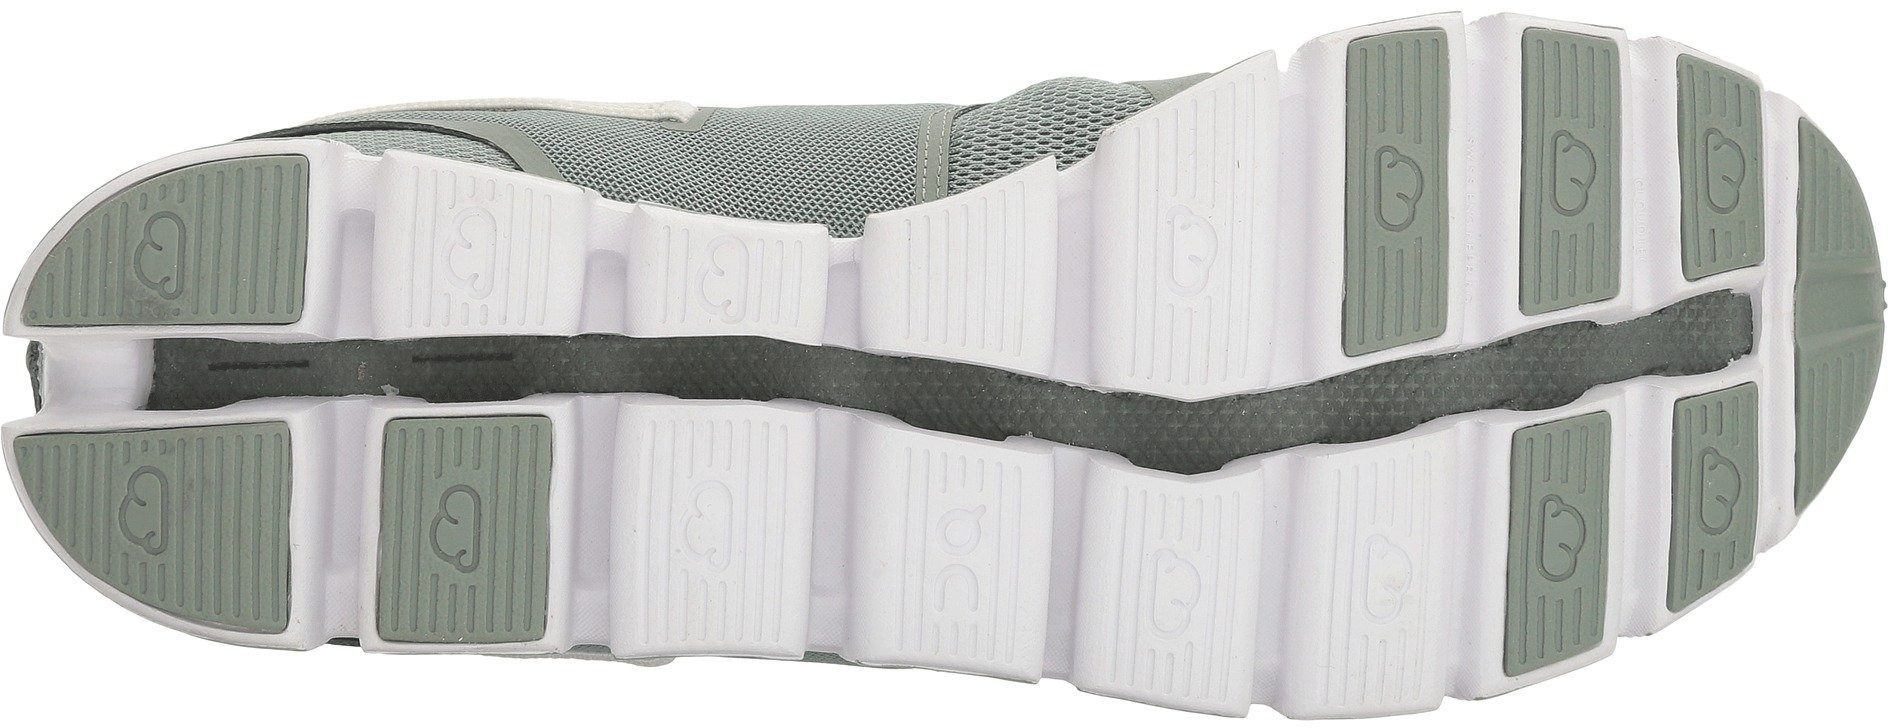line: (1668, 52, 1775, 289), (928, 481, 1032, 644), (1362, 249, 1449, 330)
quad: (1668, 52, 1775, 289)
text: (928, 481, 1032, 644)
